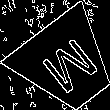M_SE: (33, 30, 101, 98)
